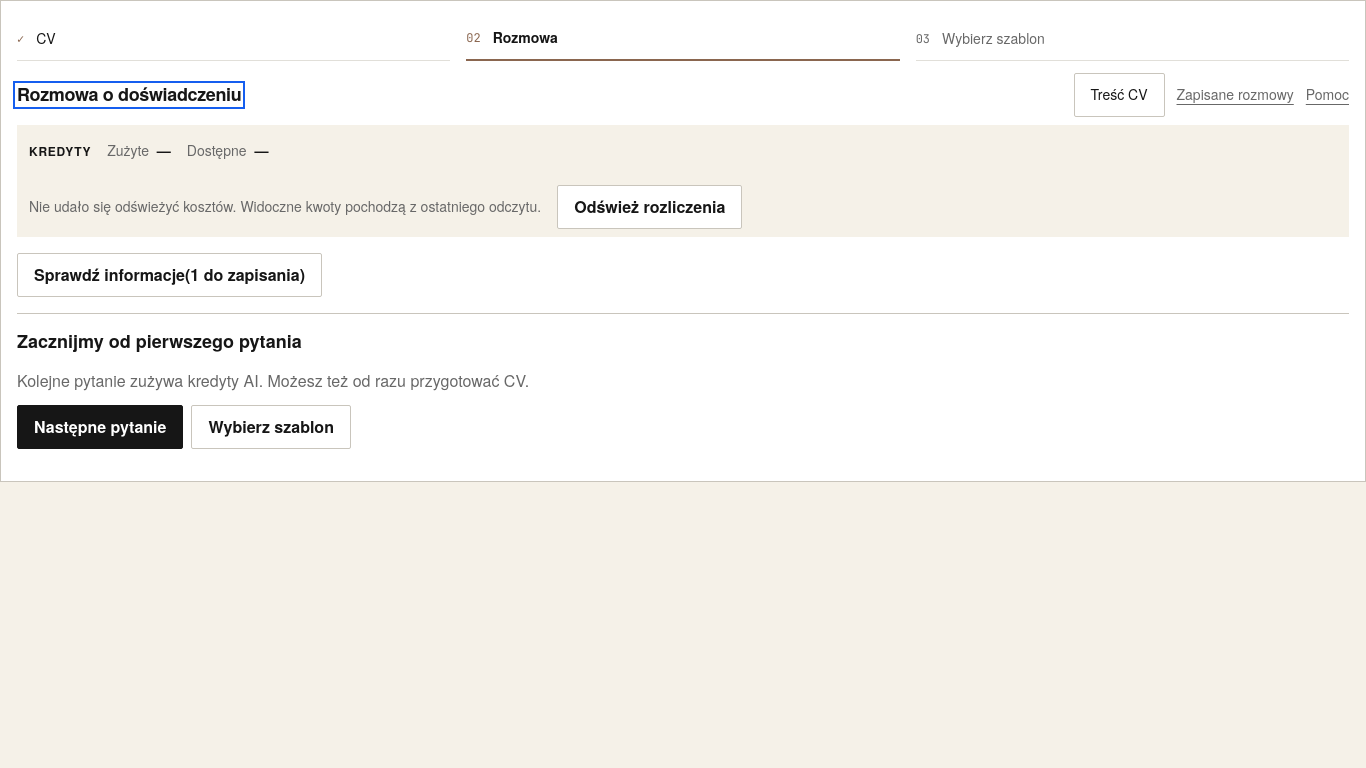
Test case: candidate evidence separation › resumes isolated evidence without fetching the account profile
Click the button "Treść CV" at (1119, 95), box x1=1074 y1=73 x2=1165 y2=117
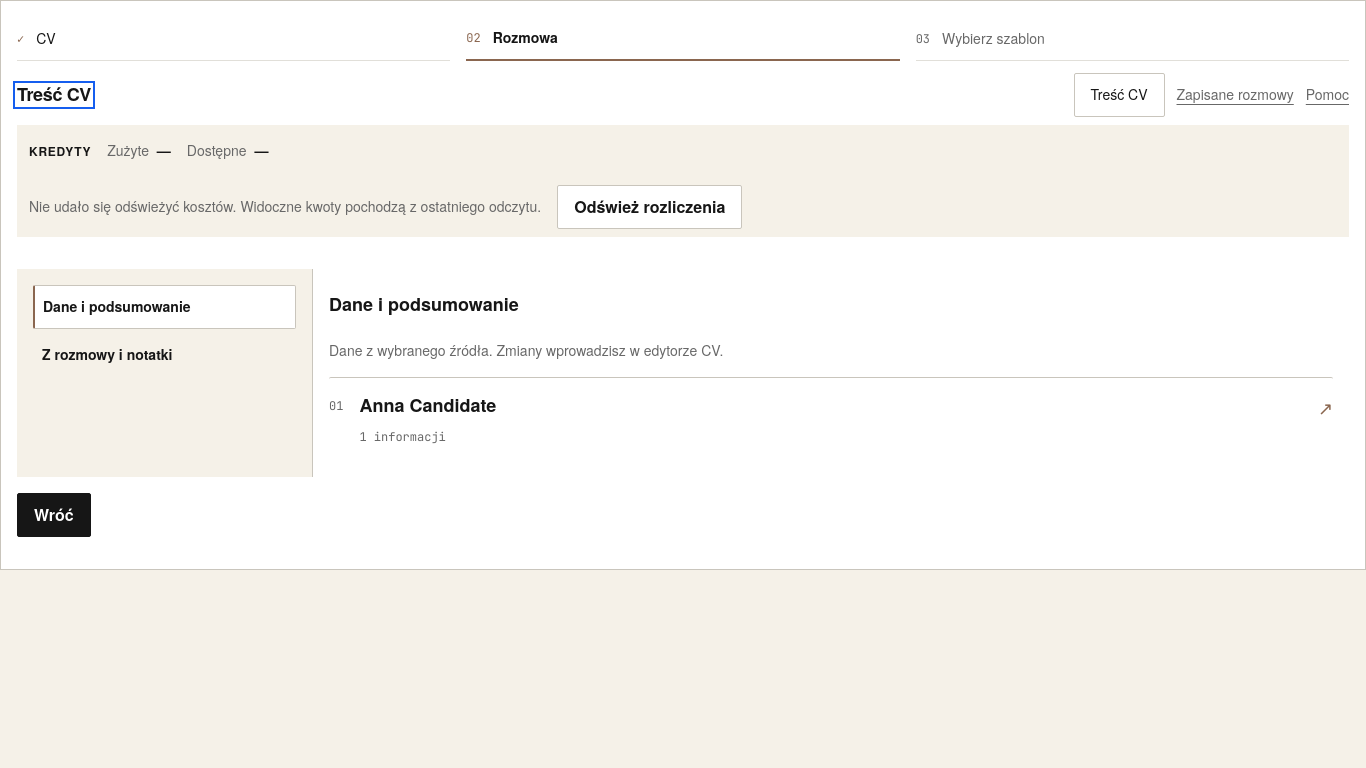
Result: the button with aria-label "Otwórz wpis: Anna Candidate" is shown at x1=329 y1=377 x2=1333 y2=462
